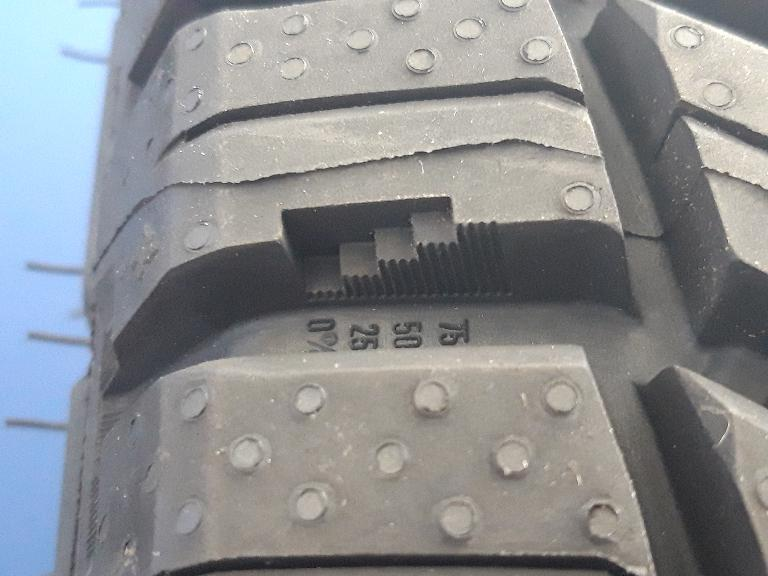temoin:100: (273, 191, 517, 314)
